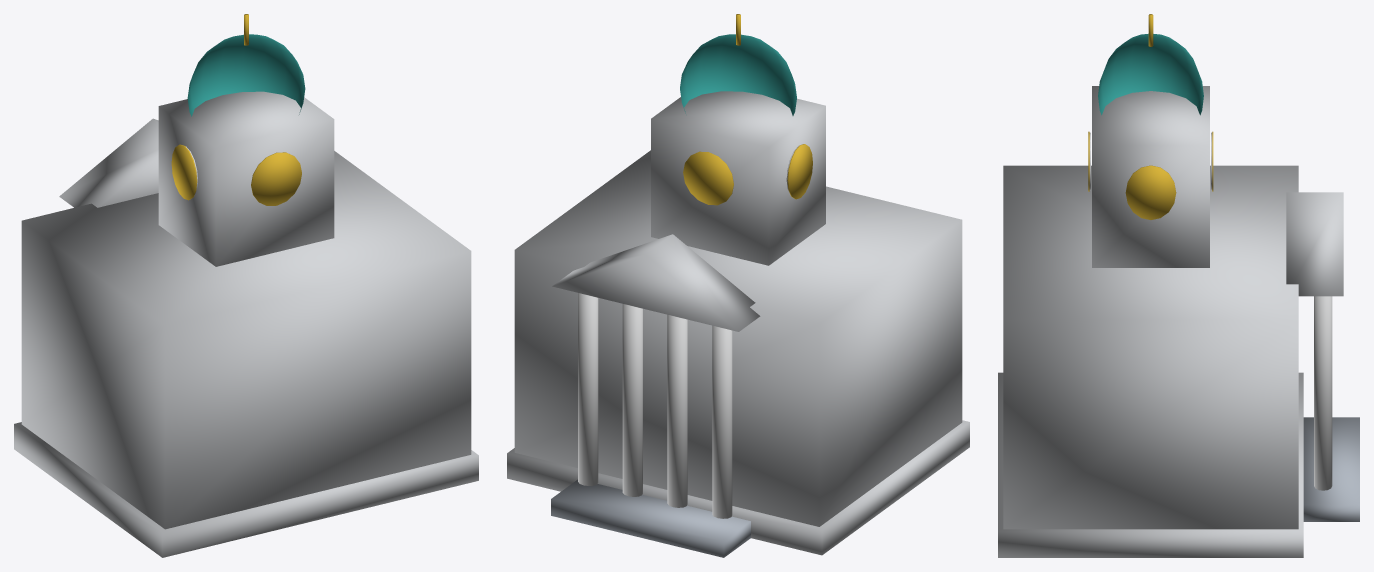
The model's file is courthouse.glb.
3 renders of one model, left to right at view 1: azimuth 30°, elevation 25°; view 2: azimuth 150°, elevation 25°; view 3: azimuth 270°, elevation 25°, orthographic. The views are drawn at different scales.
Visible parts, largest first — view 1: world; view 2: world; view 3: world.
Boxes of the visible parts, box(x1,y1,x2,y2) form: world: box(14, 14, 478, 557); world: box(507, 14, 969, 557); world: box(998, 14, 1359, 557).
Bounding box in the file's own units: 15.6 × 21.2 × 15.
